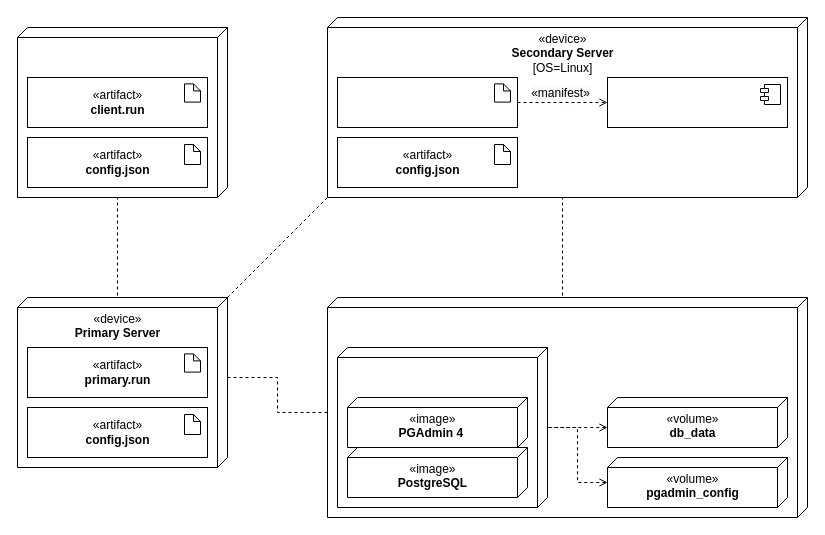
The diagram is 825 pixels wide and 535 high, and some of its shapes have lost their labels. The shapes that lost their labels are listed below. From the top down, each one's box as (x1, y1, x2, y2) in pixels, then its label:
(16, 26, 228, 198): «device» PC
(336, 76, 518, 128): «artifact» secondary.run
(606, 76, 788, 128): «component» OpenCV 4.5.0
(336, 346, 548, 508): «service» Database
(326, 296, 808, 518): «device» Docker Host
